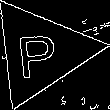P_N: (18, 24, 64, 79)
